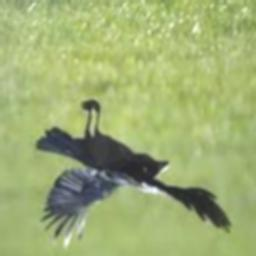Crow: (34, 99, 231, 255)
